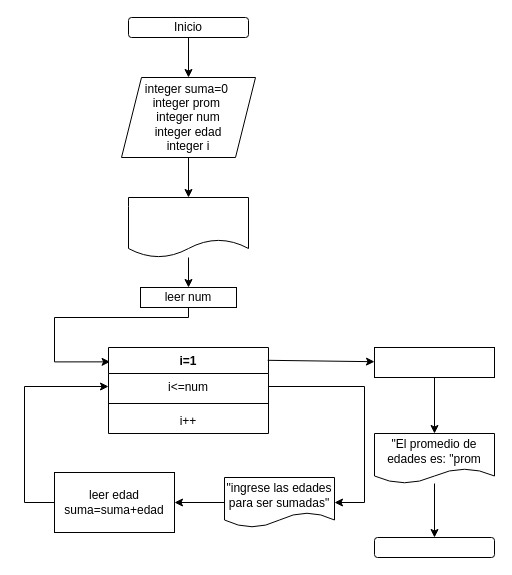
Some shapes in this 512 by 575 pixel diagram are drawn without their labels. Here are the shapes that lost their labels. From the top down, the centre of each, then its label:
the point at 188,227: "Ingrese la cantidad de edades que desea promediar"
the point at 434,362: prom=sum/num
the point at 434,547: Fin
